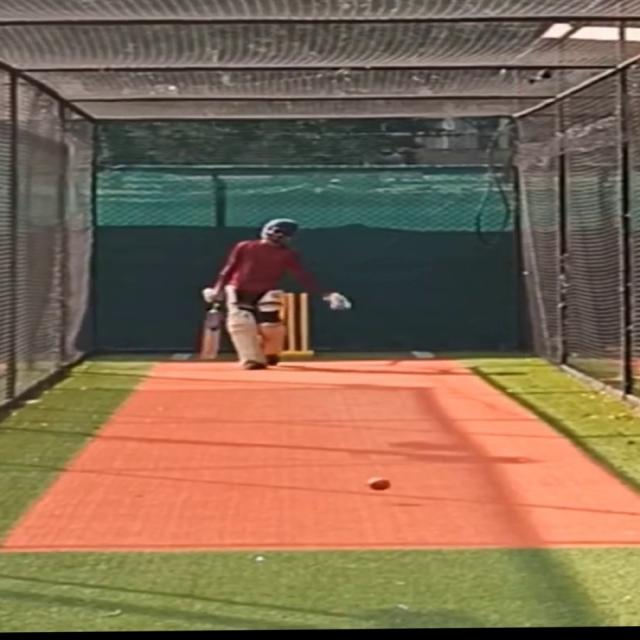ball: (367, 475, 396, 492)
stump: (285, 290, 314, 359)
